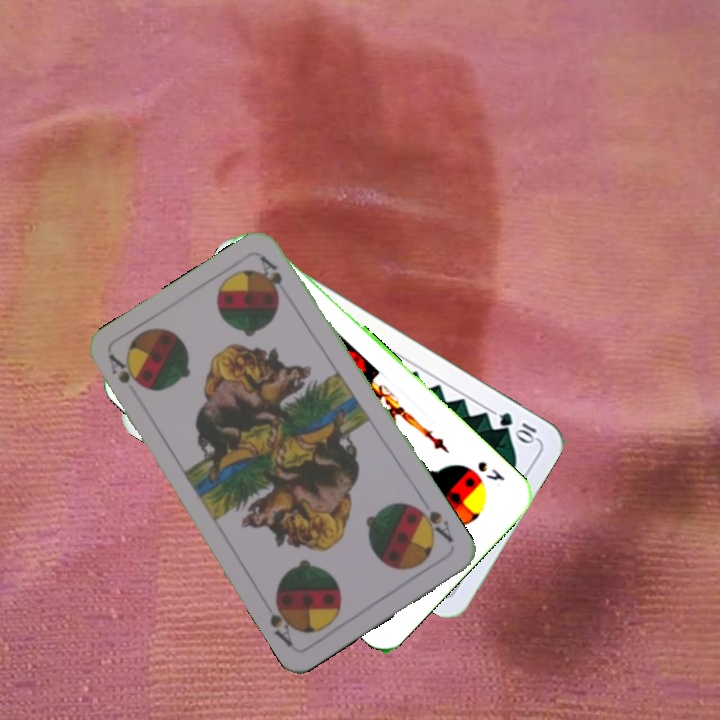G10: (495, 408, 541, 445)
SA: (410, 501, 457, 546), (105, 350, 142, 389)
SK: (473, 457, 508, 484)
